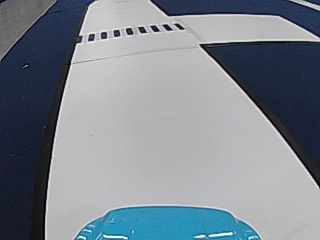CrossWalk: (78, 22, 184, 42)
